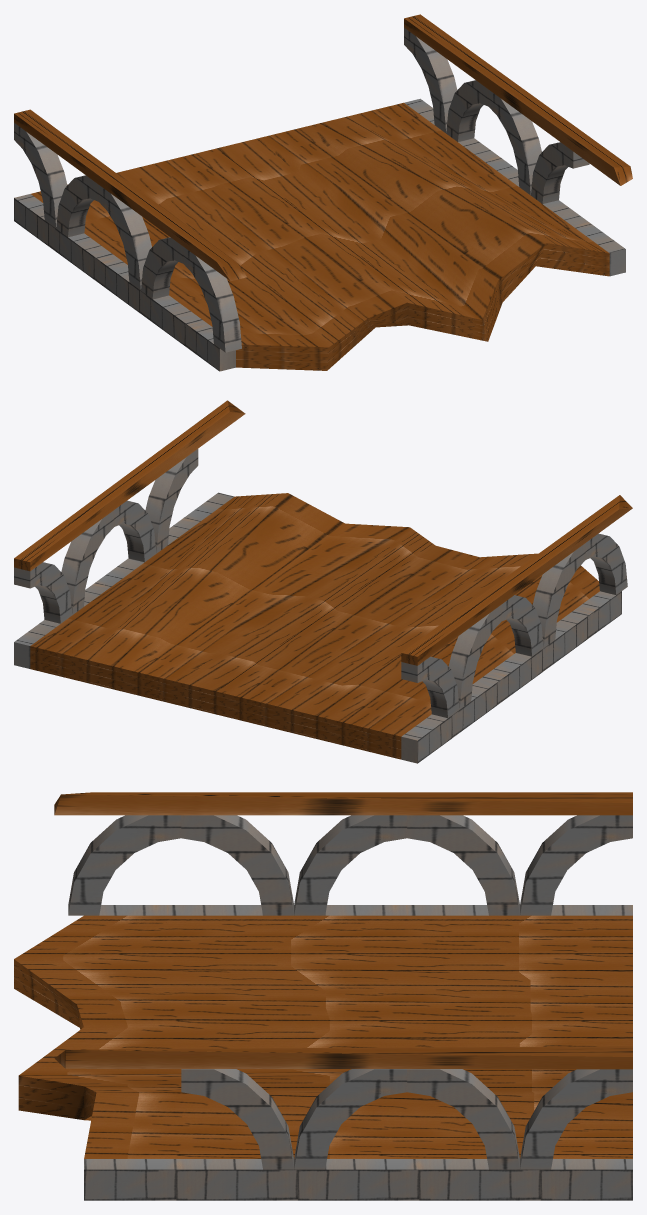
Rendered from BrokenBridgeEnd.fbx.
3 renders of one model, top to bottom at view 1: azimuth 30°, elevation 25°; view 2: azimuth 150°, elevation 25°; view 3: azimuth 270°, elevation 25°, orthographic. The views are drawn at different scales.
Parts seen in each view (by area): view 1: pCube5, polySurface27, polySurface16, polySurface20, polySurface23, polySurface21, polySurface22, polySurface26; view 2: pCube5, polySurface27, polySurface16, polySurface22, polySurface21, polySurface23, polySurface20, polySurface26; view 3: pCube5, polySurface16, polySurface27, polySurface23, polySurface22, polySurface20, polySurface21, polySurface26.
Boxes of the visible parts, box(x1,y1,x2,y2) form: pCube5: box(14, 98, 625, 371); polySurface27: box(404, 14, 632, 185); polySurface16: box(14, 109, 246, 280); polySurface20: box(488, 90, 589, 203); polySurface23: box(98, 185, 183, 299); polySurface21: box(404, 28, 488, 141); polySurface22: box(14, 123, 98, 237); polySurface26: box(183, 247, 241, 352); pCube5: box(14, 492, 621, 763); polySurface27: box(14, 400, 245, 571); polySurface16: box(401, 495, 632, 665); polySurface22: box(401, 604, 501, 718); polySurface21: box(14, 510, 114, 623); polySurface23: box(501, 543, 585, 656); polySurface20: box(114, 449, 198, 562); polySurface26: box(585, 533, 627, 594); pCube5: box(14, 905, 632, 1200); polySurface16: box(54, 792, 632, 815); polySurface27: box(54, 1046, 632, 1069); polySurface23: box(181, 815, 406, 915); polySurface22: box(407, 815, 632, 915); polySurface20: box(181, 1069, 406, 1169); polySurface21: box(407, 1069, 632, 1169); polySurface26: box(68, 815, 181, 915).
Bounding box in the file's own units: 5.5 × 1.6 × 5.44.
